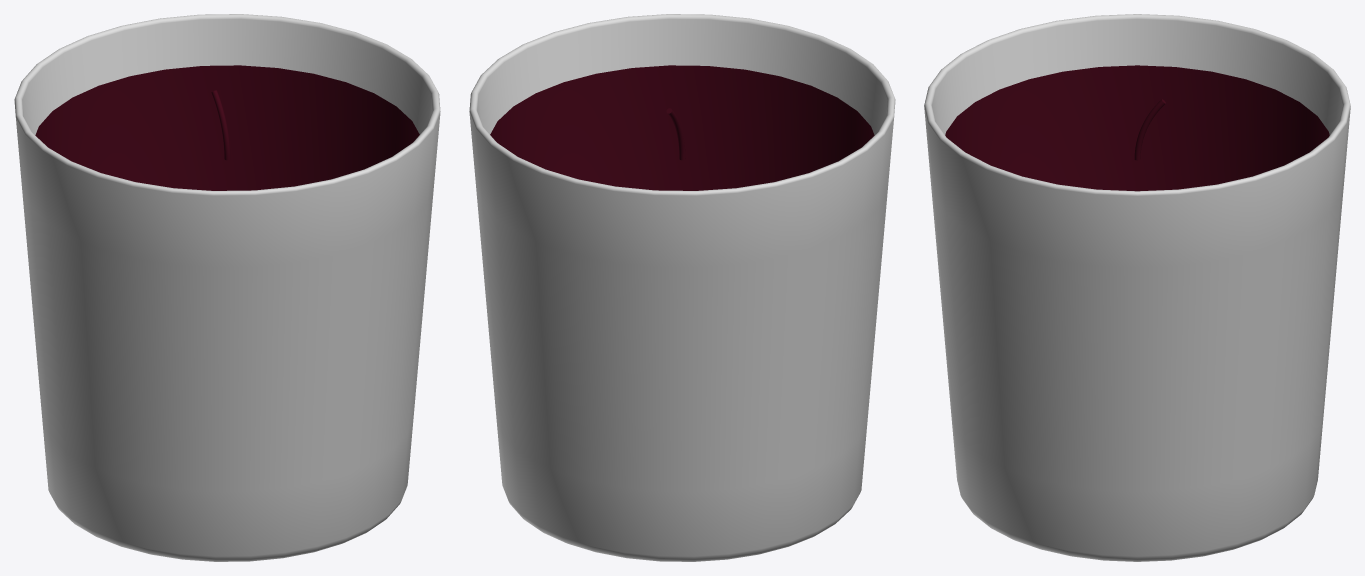
Rendered from CANDEL.fbx.
The picture shows the model from 3 angles, left to right: view 1: azimuth 30°, elevation 25°; view 2: azimuth 150°, elevation 25°; view 3: azimuth 270°, elevation 25°; orthographic projection.
Parts seen in each view (by area): view 1: Cylinder702, Group119133; view 2: Cylinder702, Group119133; view 3: Cylinder702, Group119133.
Boxes of the visible parts, bbox=[...] form: Cylinder702: bbox=[14, 14, 440, 561]; Group119133: bbox=[35, 65, 419, 190]; Cylinder702: bbox=[469, 14, 895, 561]; Group119133: bbox=[490, 65, 874, 190]; Cylinder702: bbox=[924, 14, 1350, 561]; Group119133: bbox=[945, 65, 1329, 191].
Size of the model in its own units: 2.57 by 2.59 by 2.57.
